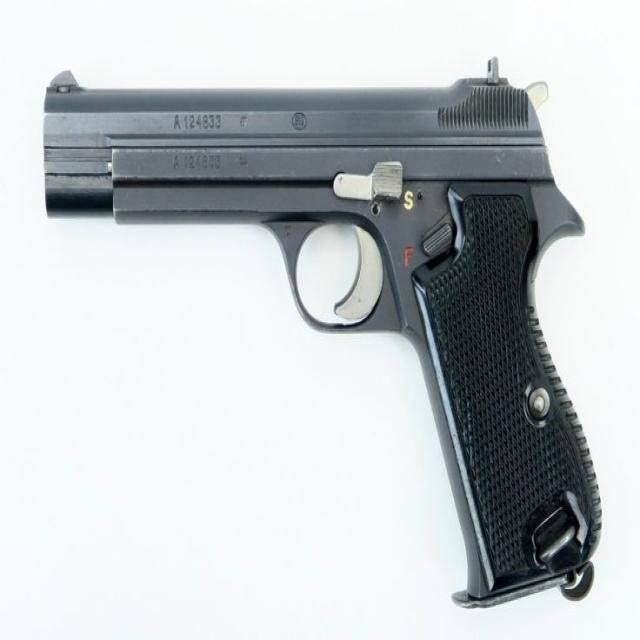Pistol: (30, 54, 619, 625)
